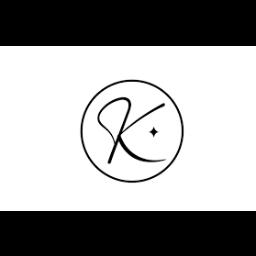k: (94, 96, 170, 166)
